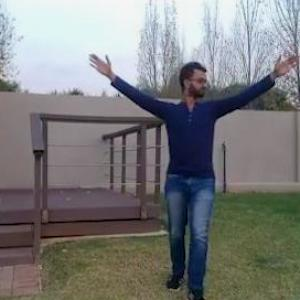takeoff: (84, 47, 299, 299)
